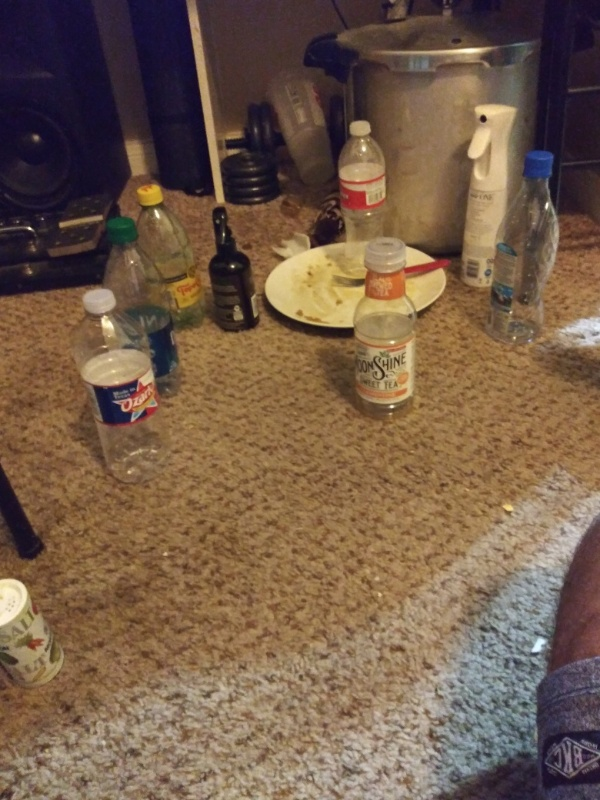bottle: (67, 282, 178, 485), (93, 215, 190, 404), (480, 144, 563, 350), (349, 233, 424, 421), (134, 179, 208, 330), (334, 116, 398, 237)
